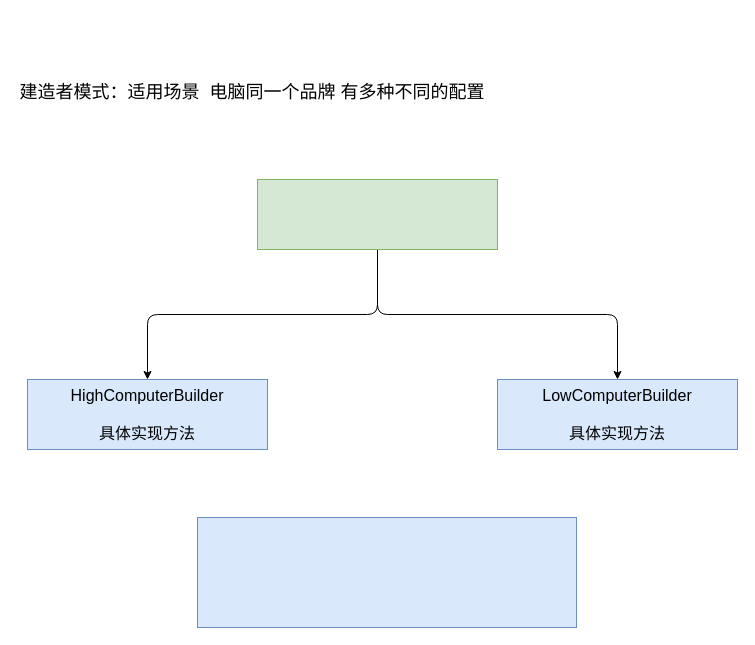
Image size: 755x645. Some labels were removed from this diagram. Each missing label, with the centre of its shape:
"ComputerBuilder" goes at [377,214].
"Director Computer create (ComputerBuilder builder)" goes at [386,572].
